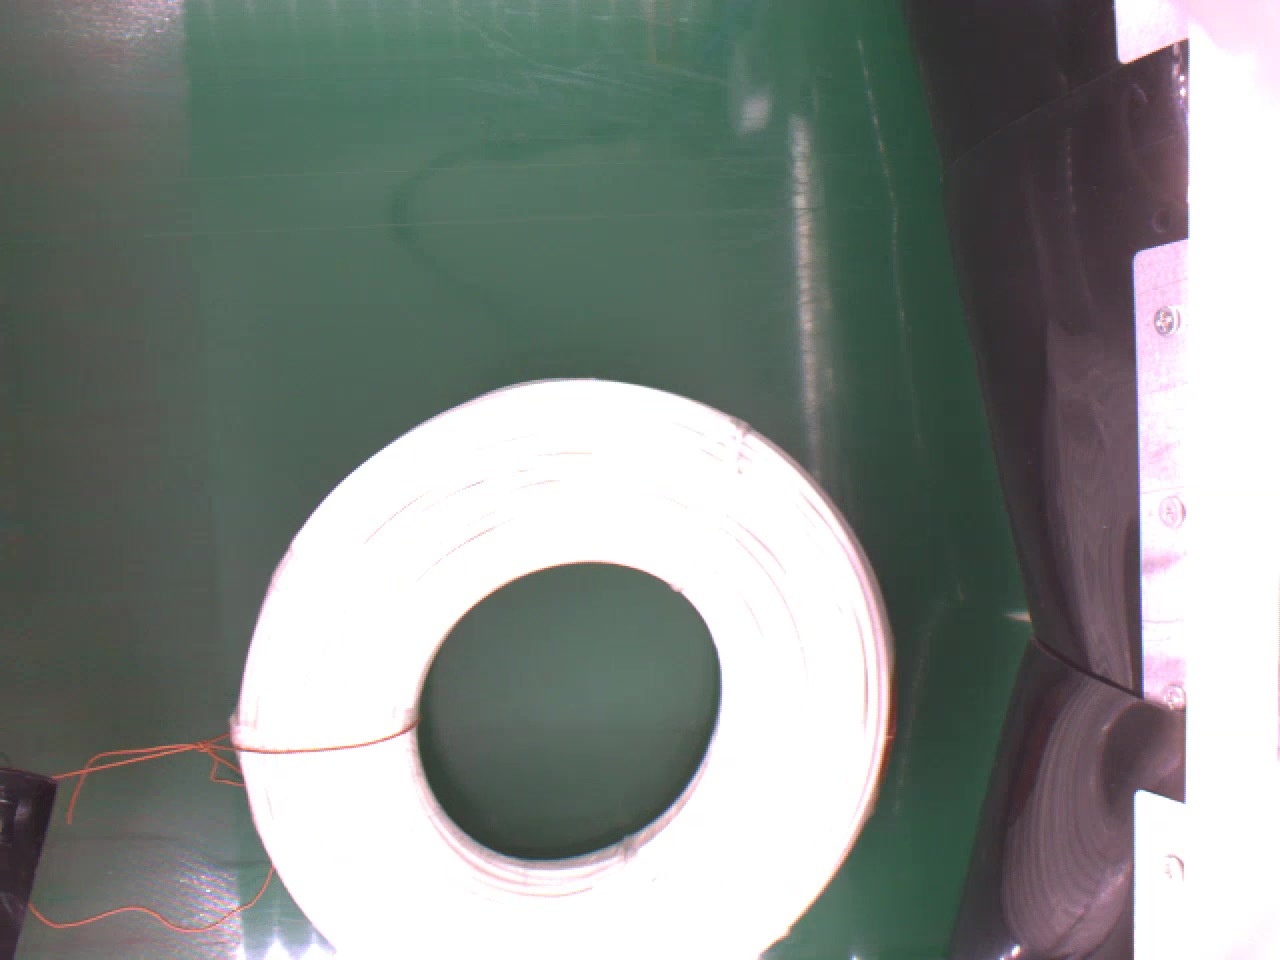white: (229, 374, 905, 960)
